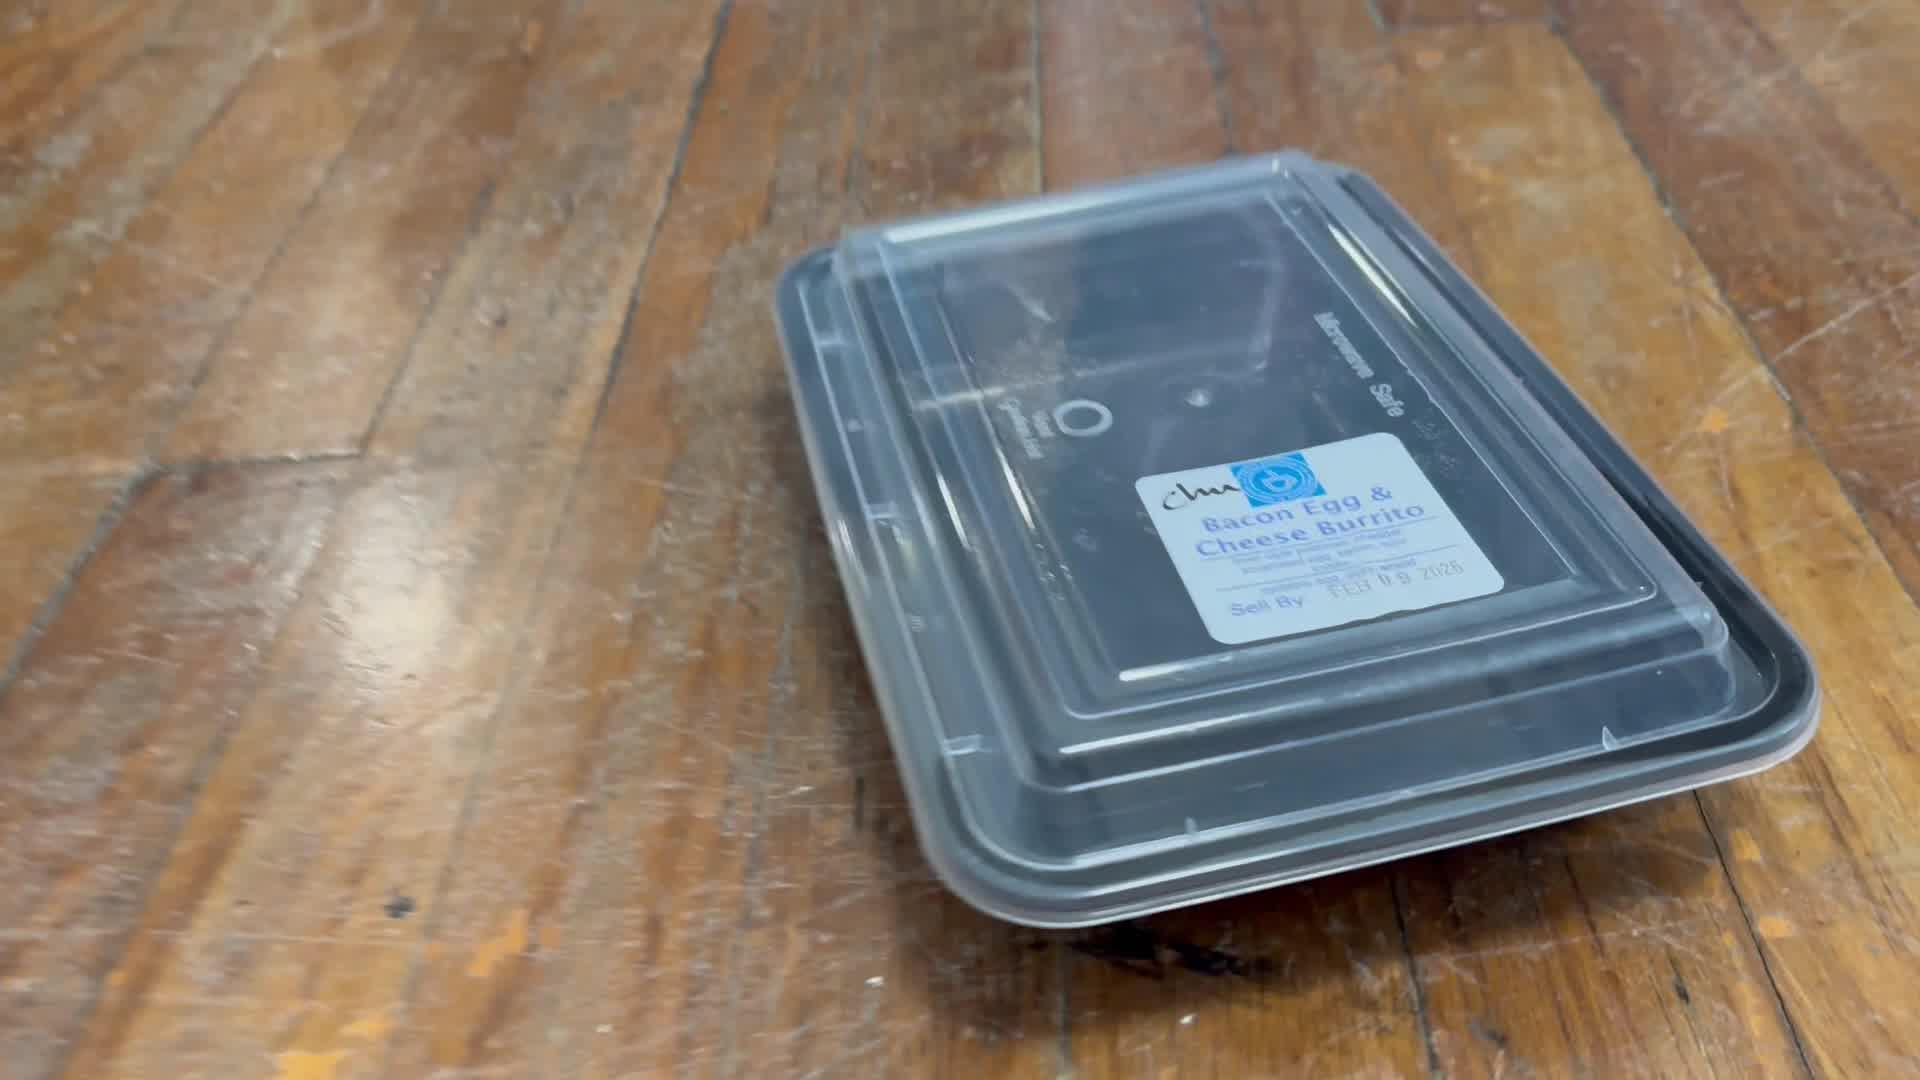lp_cup_lids: (773, 160, 1805, 924)
